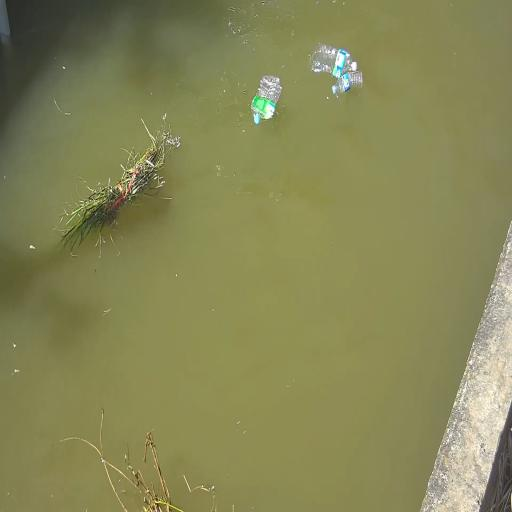plastic: (251, 76, 282, 124), (310, 44, 352, 78), (332, 72, 362, 94)
twig: (61, 119, 180, 248), (63, 409, 127, 512), (128, 432, 179, 512)
